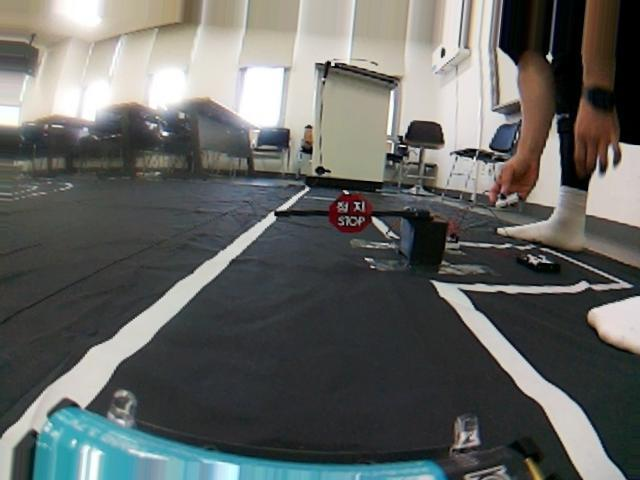sign_stop: (326, 190, 376, 234)
straight: (11, 308, 583, 479)
